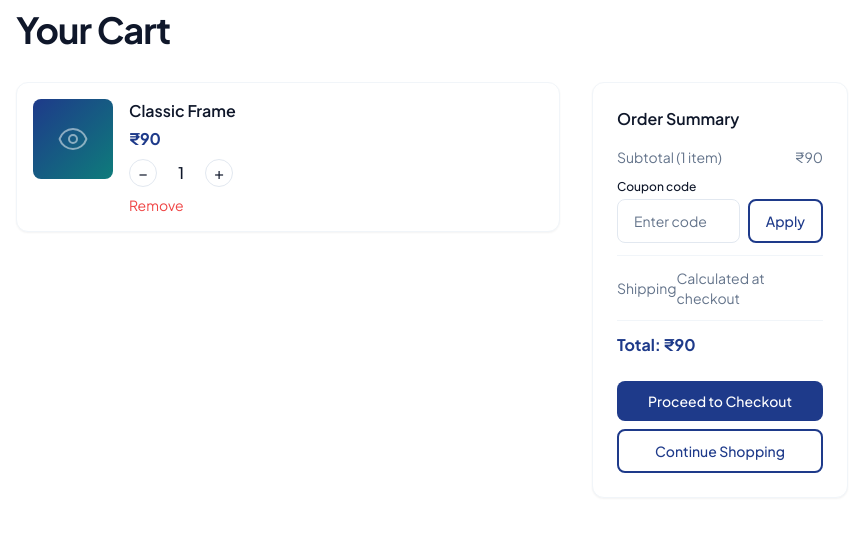
Test case: CartPage › coupon code › shows the specific rejection reason for an invalid code, not a generic error
Type "OLDCODE" into the field labelled "Coupon code".
click(678, 221); type("OLDCODE")  # box x1=617 y1=199 x2=740 y2=243
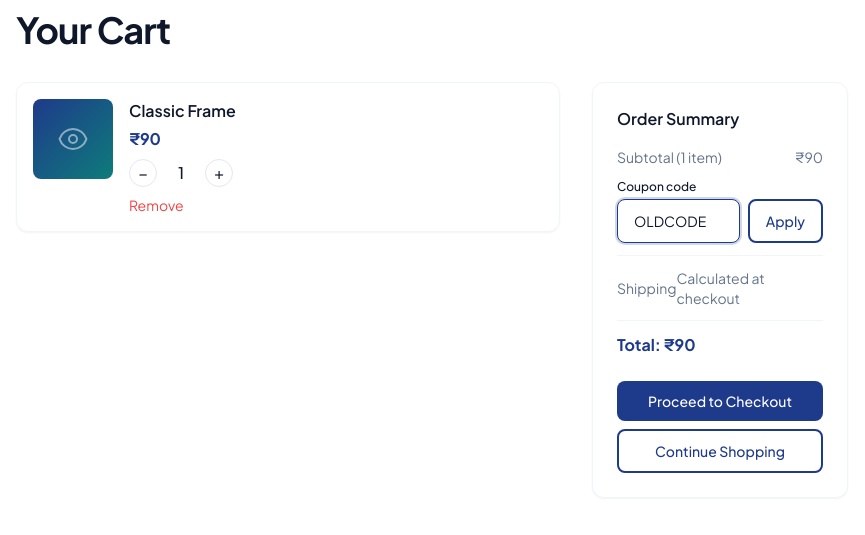
Click the button "Apply".
click(785, 221)  # box x1=748 y1=199 x2=823 y2=243
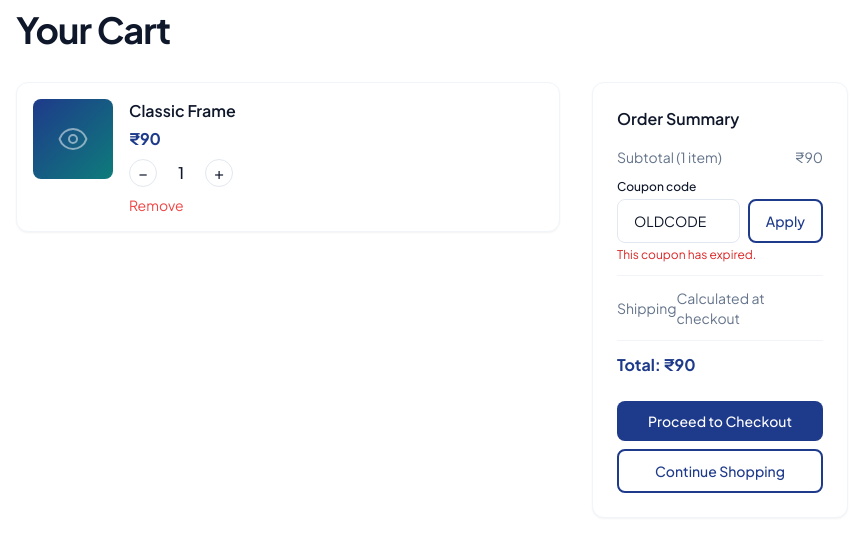
Expected: the text "This coupon has expired." is shown, x1=617 y1=247 x2=756 y2=262
